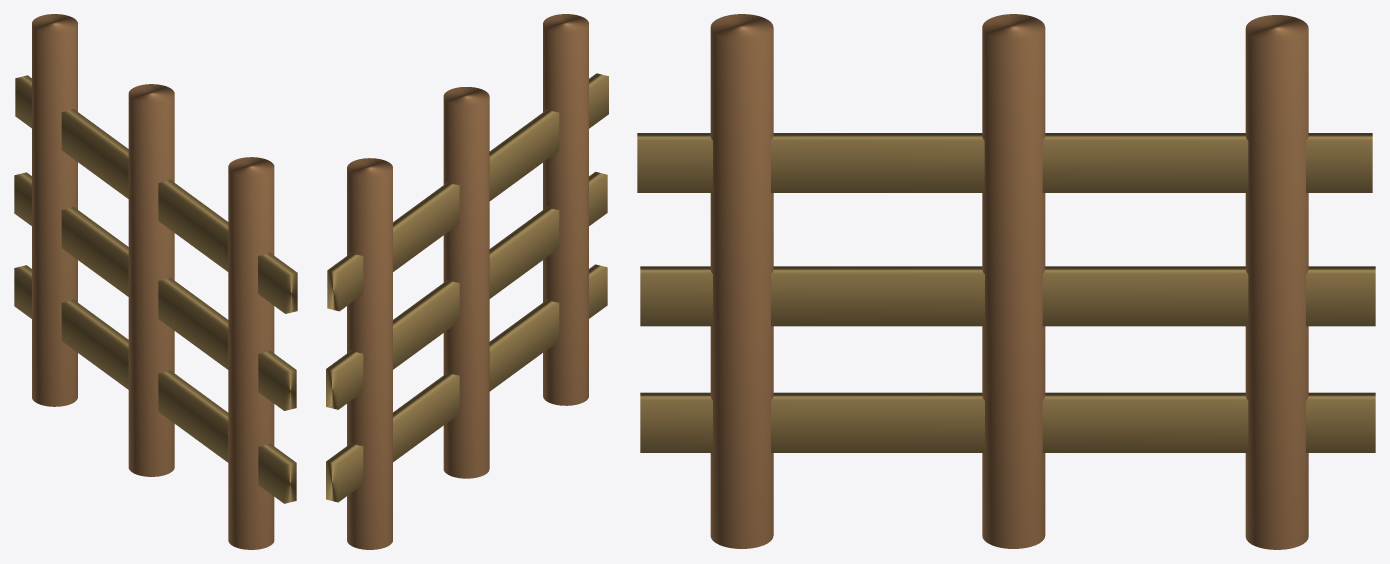
Rendered from woodfence.fbx.
3 renders of one model, left to right at view 1: azimuth 30°, elevation 25°; view 2: azimuth 150°, elevation 25°; view 3: azimuth 270°, elevation 25°, orthographic. The views are drawn at different scales.
Visible parts, largest first — view 1: Cylinder.001, Cylinder, Cylinder.002, Cube, Cube.004, Cube.001; view 2: Cylinder.001, Cylinder, Cylinder.002, Cube.004, Cube, Cube.001; view 3: Cube.001, Cube.004, Cube, Cylinder.001, Cylinder, Cylinder.002.
Boxes of the visible parts, bbox=[...] form: Cylinder.001: bbox=[128, 84, 174, 476]; Cylinder: bbox=[228, 157, 274, 549]; Cylinder.002: bbox=[32, 14, 77, 406]; Cube: bbox=[15, 75, 297, 313]; Cube.004: bbox=[14, 265, 296, 503]; Cube.001: bbox=[14, 172, 296, 410]; Cylinder.001: bbox=[443, 87, 489, 478]; Cylinder: bbox=[543, 14, 588, 405]; Cylinder.002: bbox=[347, 158, 392, 549]; Cube.004: bbox=[326, 264, 607, 502]; Cube: bbox=[327, 73, 608, 311]; Cube.001: bbox=[326, 171, 607, 409]; Cube.001: bbox=[640, 266, 1375, 326]; Cube.004: bbox=[640, 392, 1375, 452]; Cube: bbox=[637, 133, 1372, 192]; Cylinder.001: bbox=[982, 14, 1045, 548]; Cylinder: bbox=[710, 14, 773, 548]; Cylinder.002: bbox=[1245, 15, 1308, 549].
Size of the model in its own units: 17.19 by 153 by 202.
